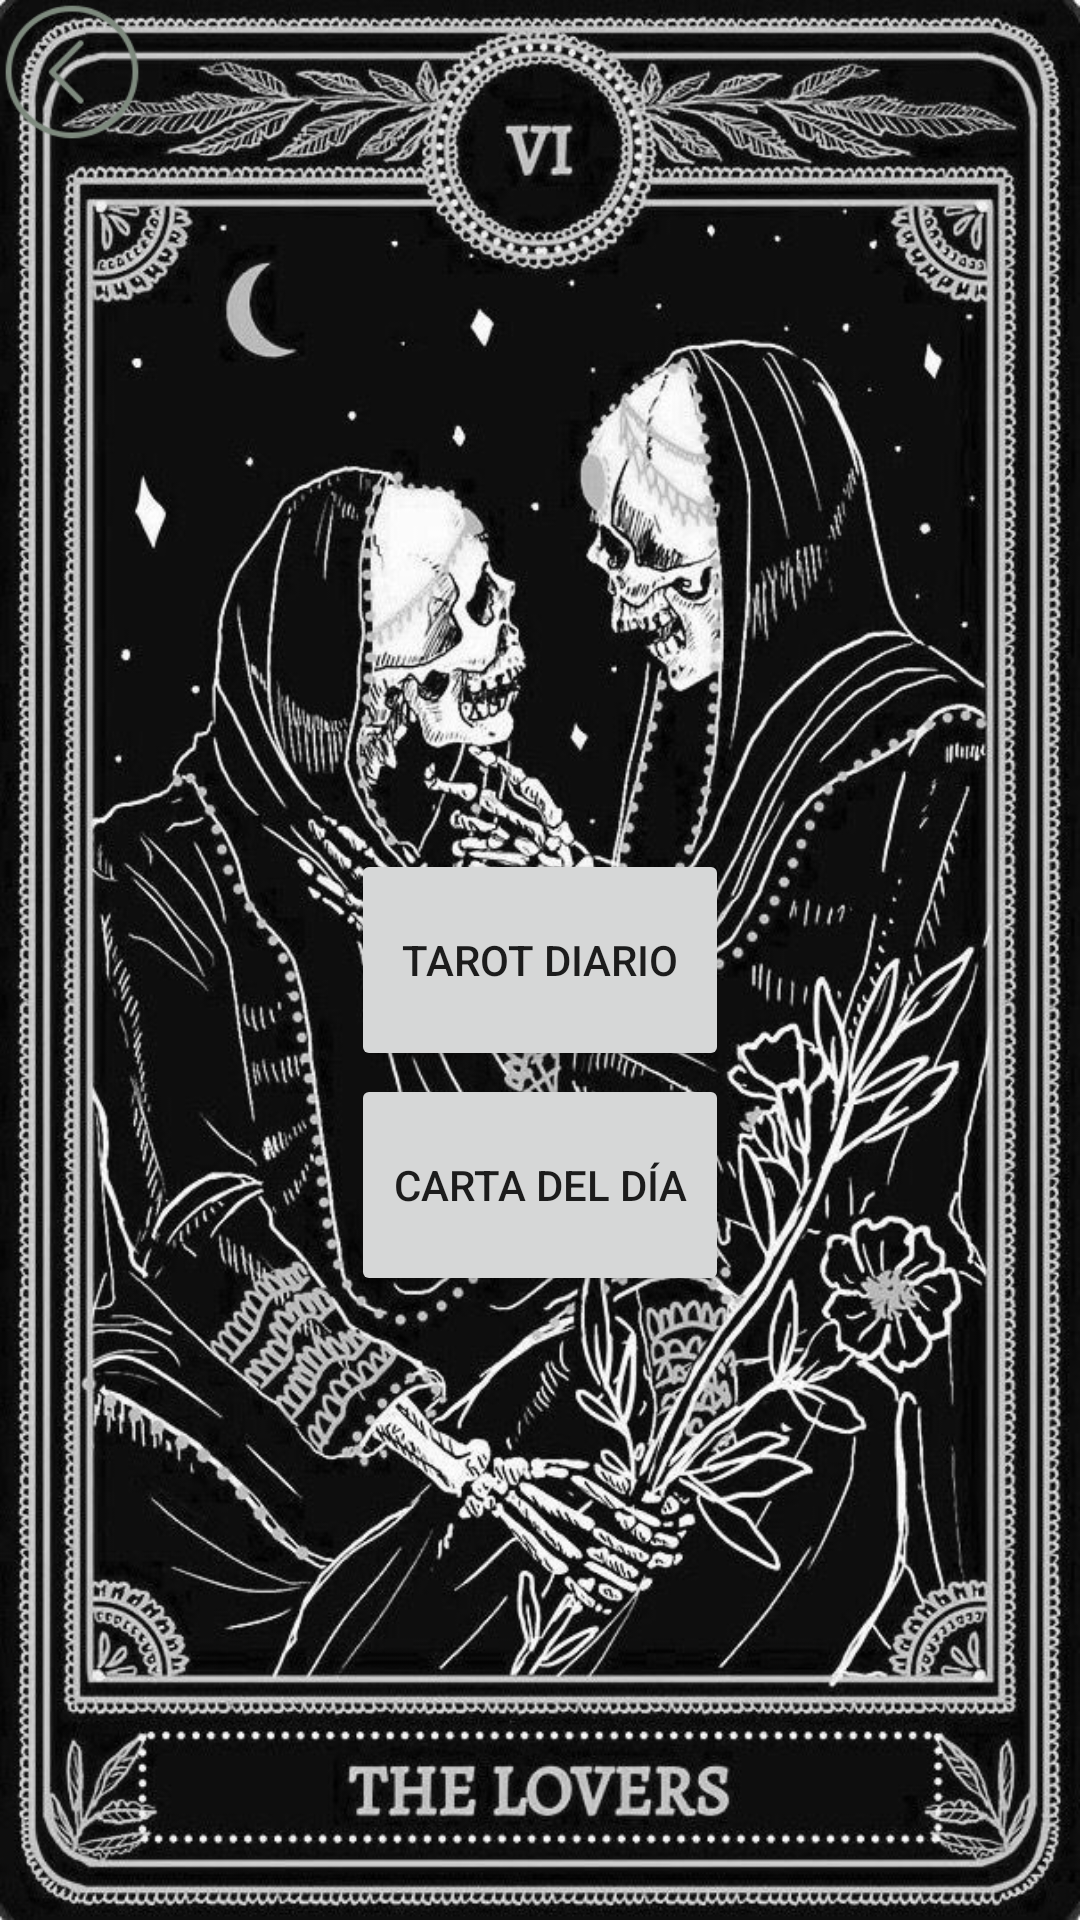

Screen size 1080w x 1920h. Icon name, then its center in pixels as (x=x, y=y):
go back: (x=72, y=72)
